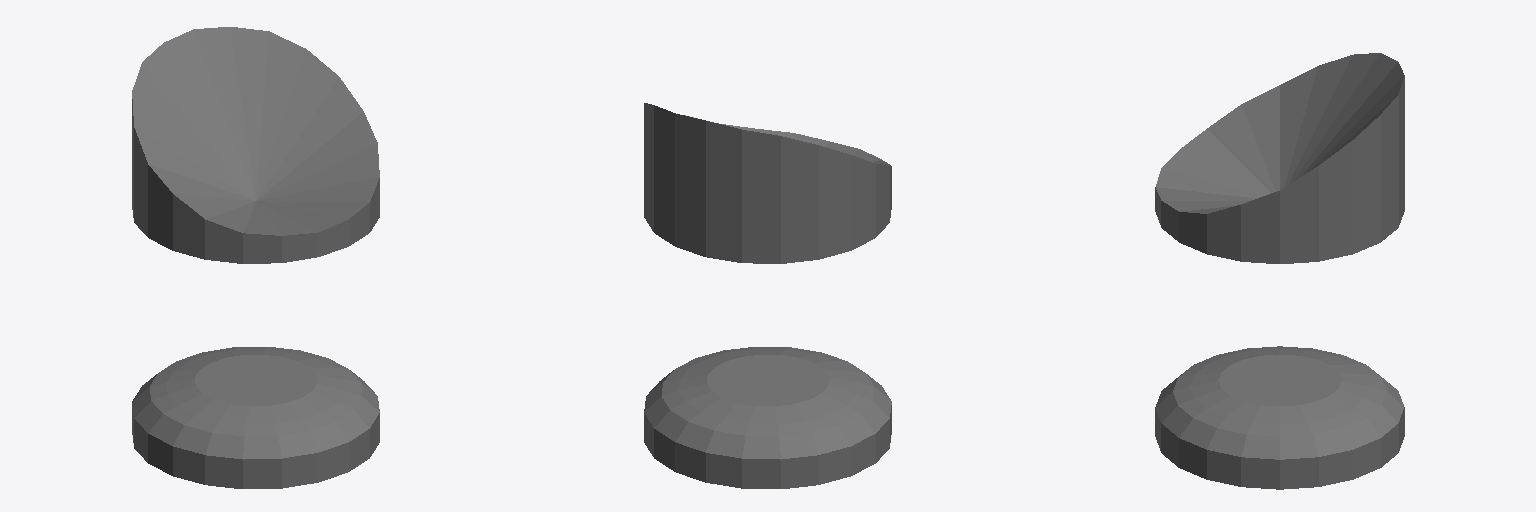
Rendered from Chair_OBJ.obj.
The picture shows the model from 3 angles: view 1: azimuth 30°, elevation 25°; view 2: azimuth 150°, elevation 25°; view 3: azimuth 270°, elevation 25°; orthographic projection.
Visible parts, largest first — view 1: pCylinder2; view 2: pCylinder2; view 3: pCylinder2.
Boxes of the visible parts, x1,y1,x2,y2 form: pCylinder2: [132, 27, 379, 488]; pCylinder2: [644, 103, 891, 488]; pCylinder2: [1155, 53, 1404, 489].
Size of the model in its own units: 2 by 3.21 by 2.